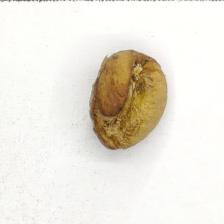NG: (92, 55, 165, 146)
